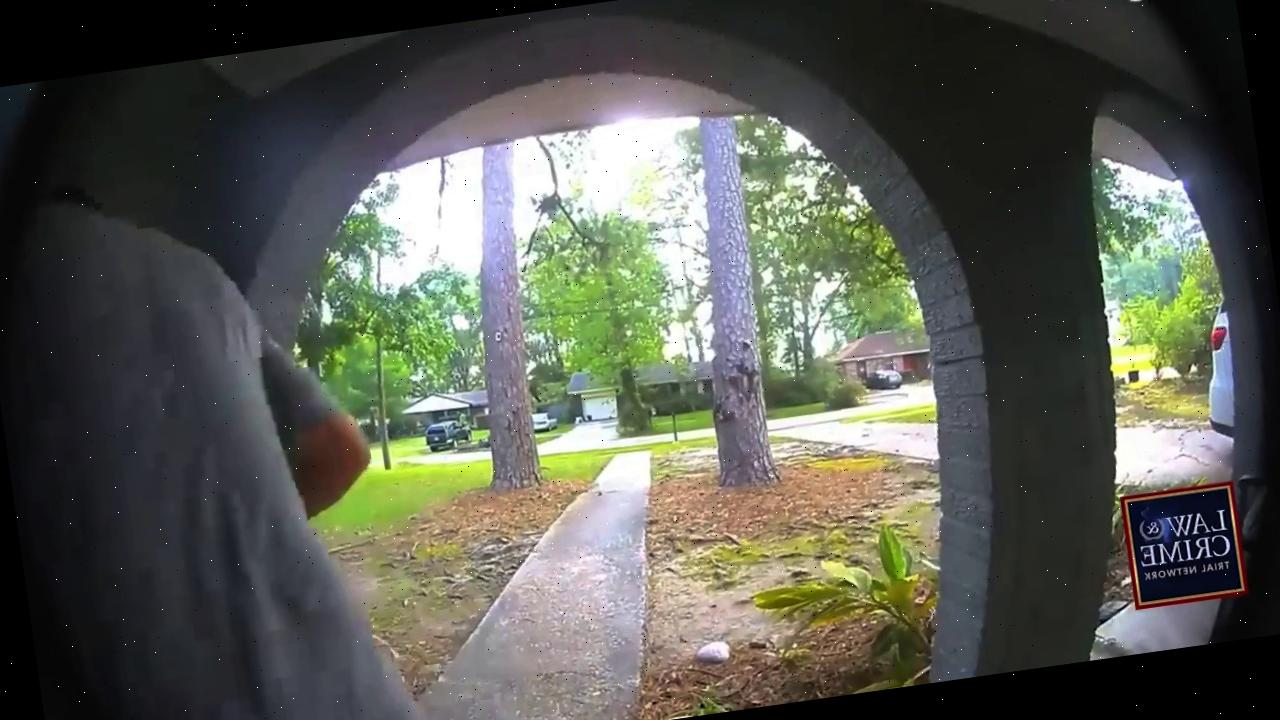suspicion: (0, 130, 480, 720)
